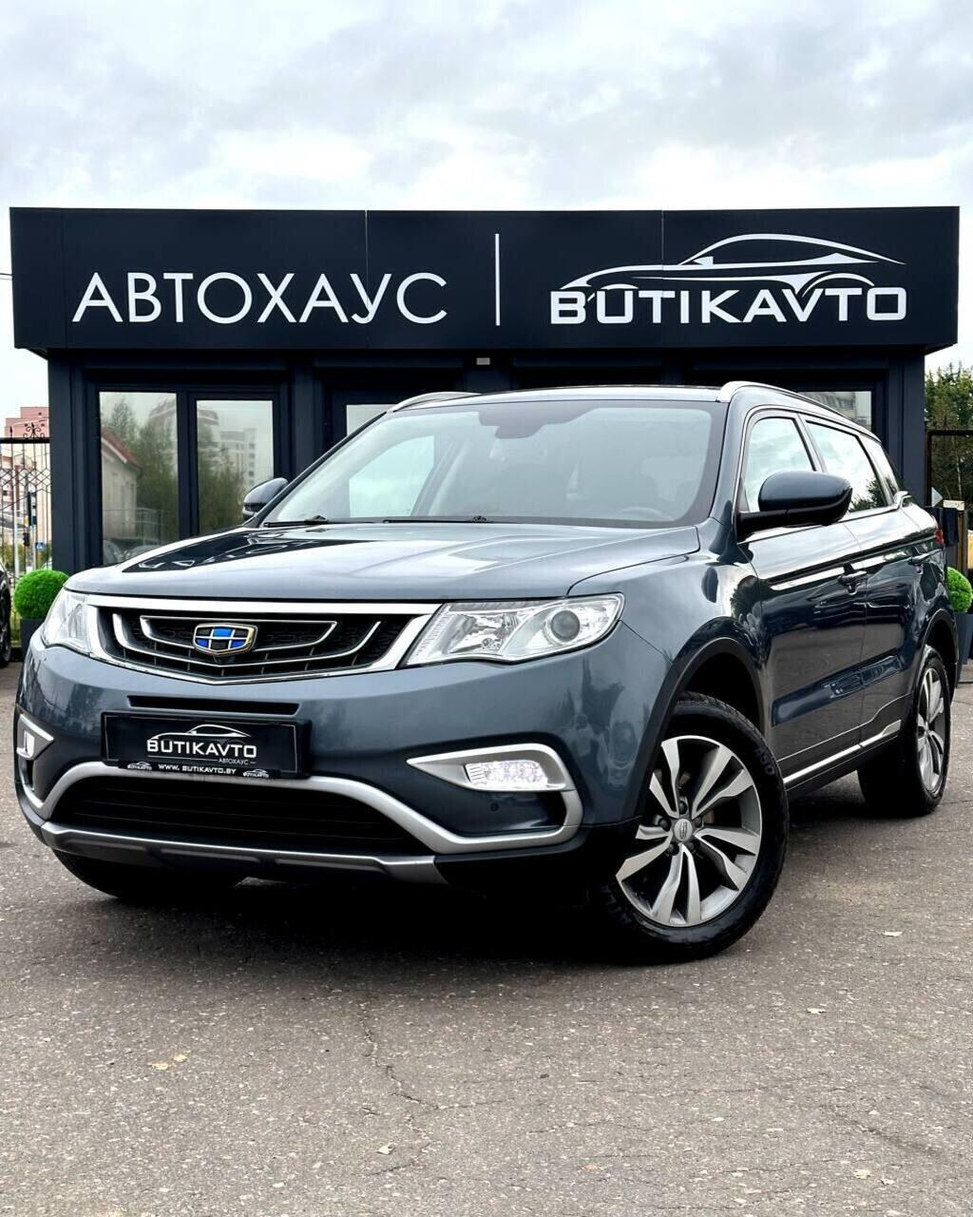Atlas_2016-2023: (8, 377, 969, 959)
